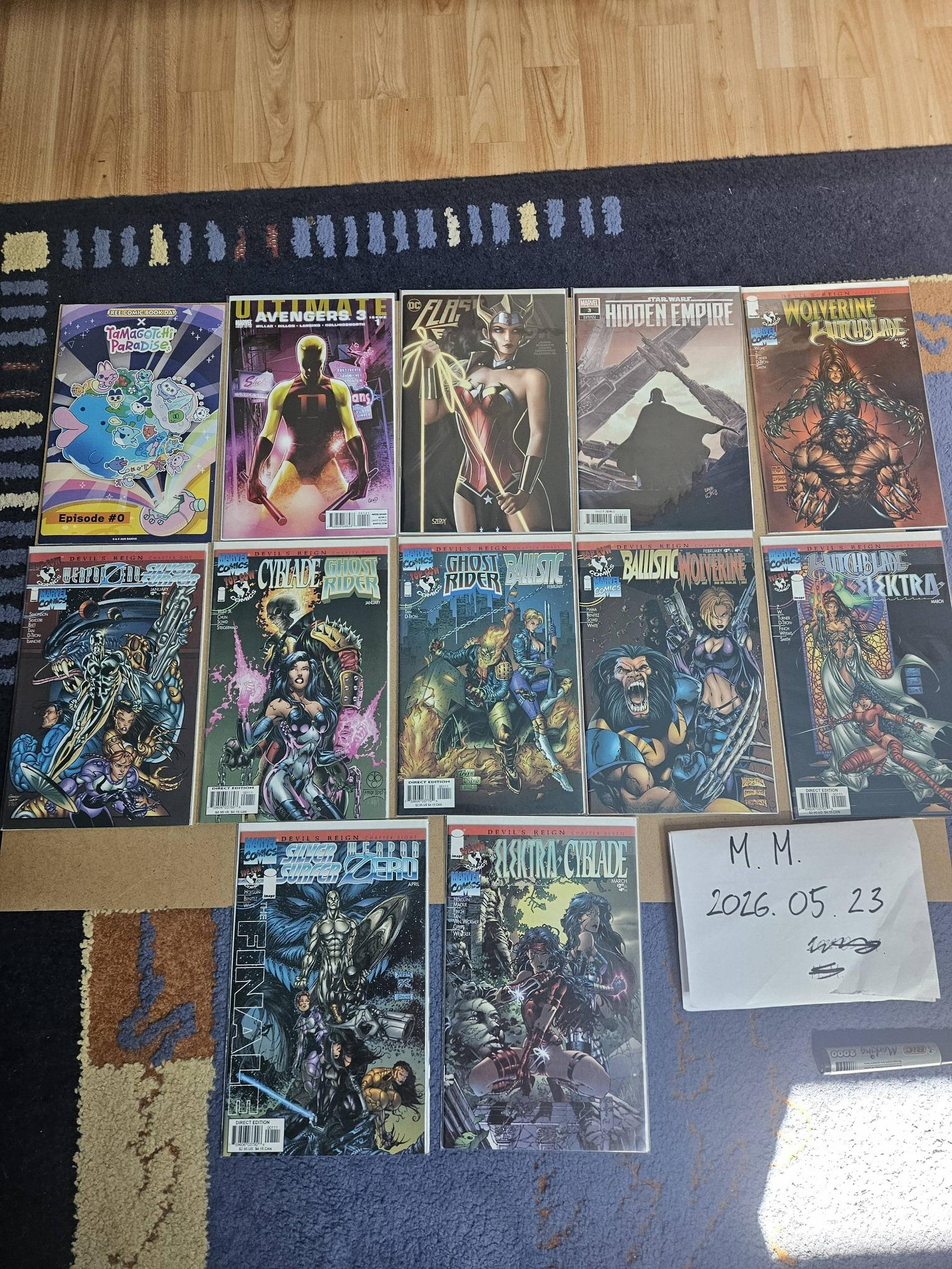comic: (443, 816, 650, 1151), (225, 821, 426, 1155), (2, 540, 207, 836), (575, 529, 776, 821), (762, 525, 952, 826), (743, 272, 945, 544), (200, 538, 390, 824), (395, 536, 583, 815), (38, 295, 225, 552), (573, 286, 751, 533), (221, 294, 395, 540), (400, 290, 571, 533)
